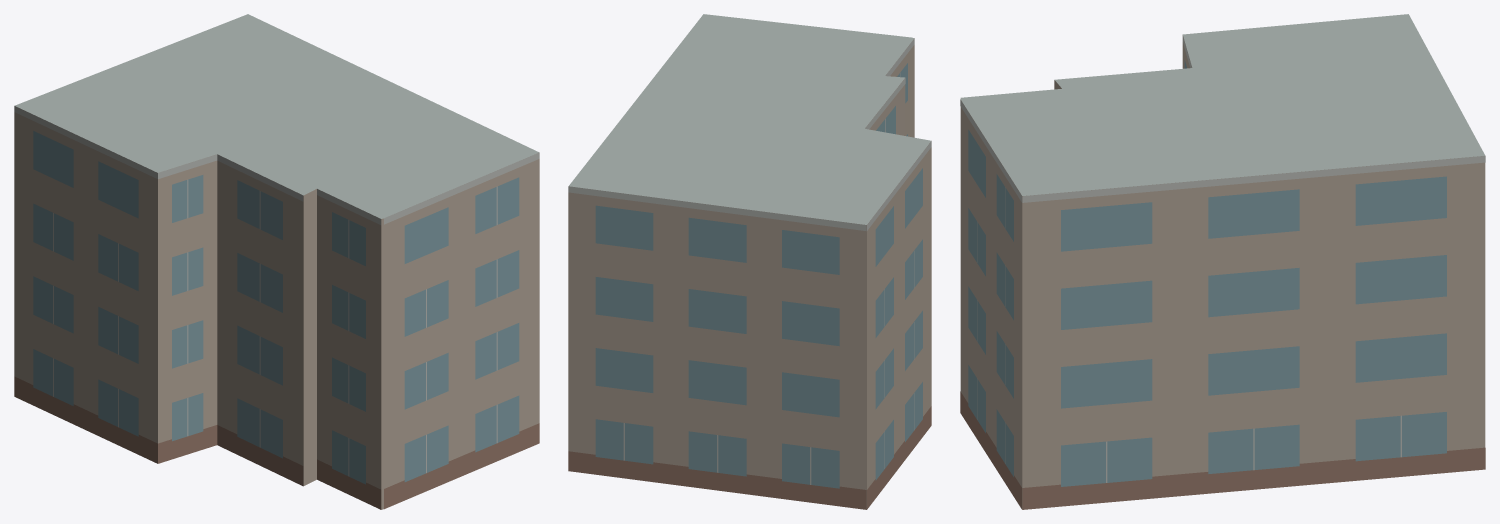
The model's file is survey-upis-33025998.glb.
3 views of the same model, side by side, from view 1: azimuth 30°, elevation 25°; view 2: azimuth 150°, elevation 25°; view 3: azimuth 270°, elevation 25° (orthographic). The views are drawn at different scales.
Visible parts, largest first — view 1: survey-upis-33025998.tmp; view 2: survey-upis-33025998.tmp; view 3: survey-upis-33025998.tmp.
Part boxes in pixels (left/top/right/bottom): survey-upis-33025998.tmp: left=14, top=14, right=539, bottom=509; survey-upis-33025998.tmp: left=568, top=14, right=931, bottom=509; survey-upis-33025998.tmp: left=960, top=14, right=1485, bottom=509.
Bounding box in the file's own units: 13.95 × 11.2 × 16.99.
